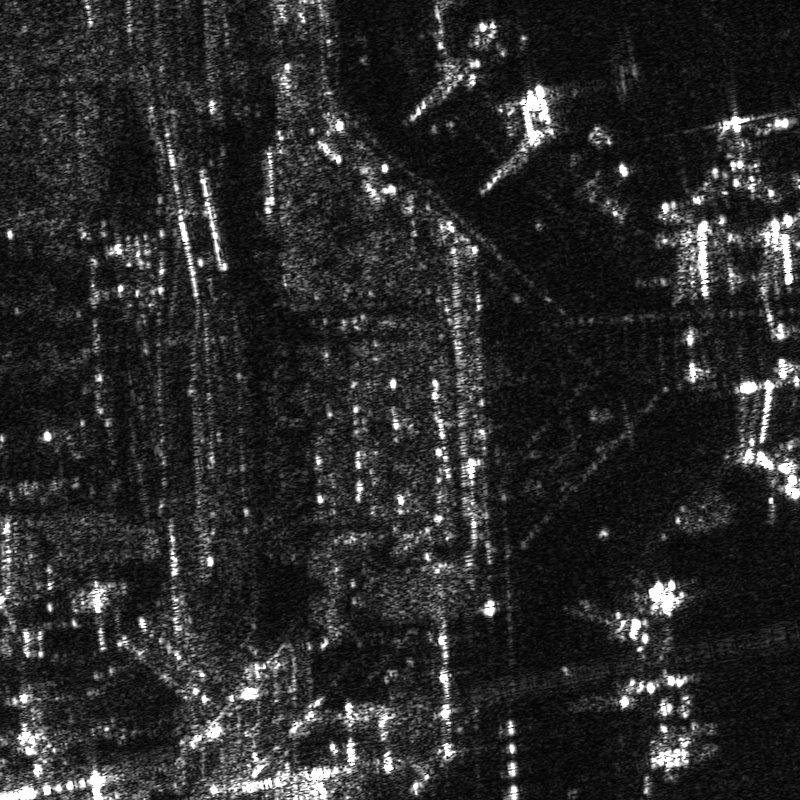A220: (691, 105, 770, 206)
